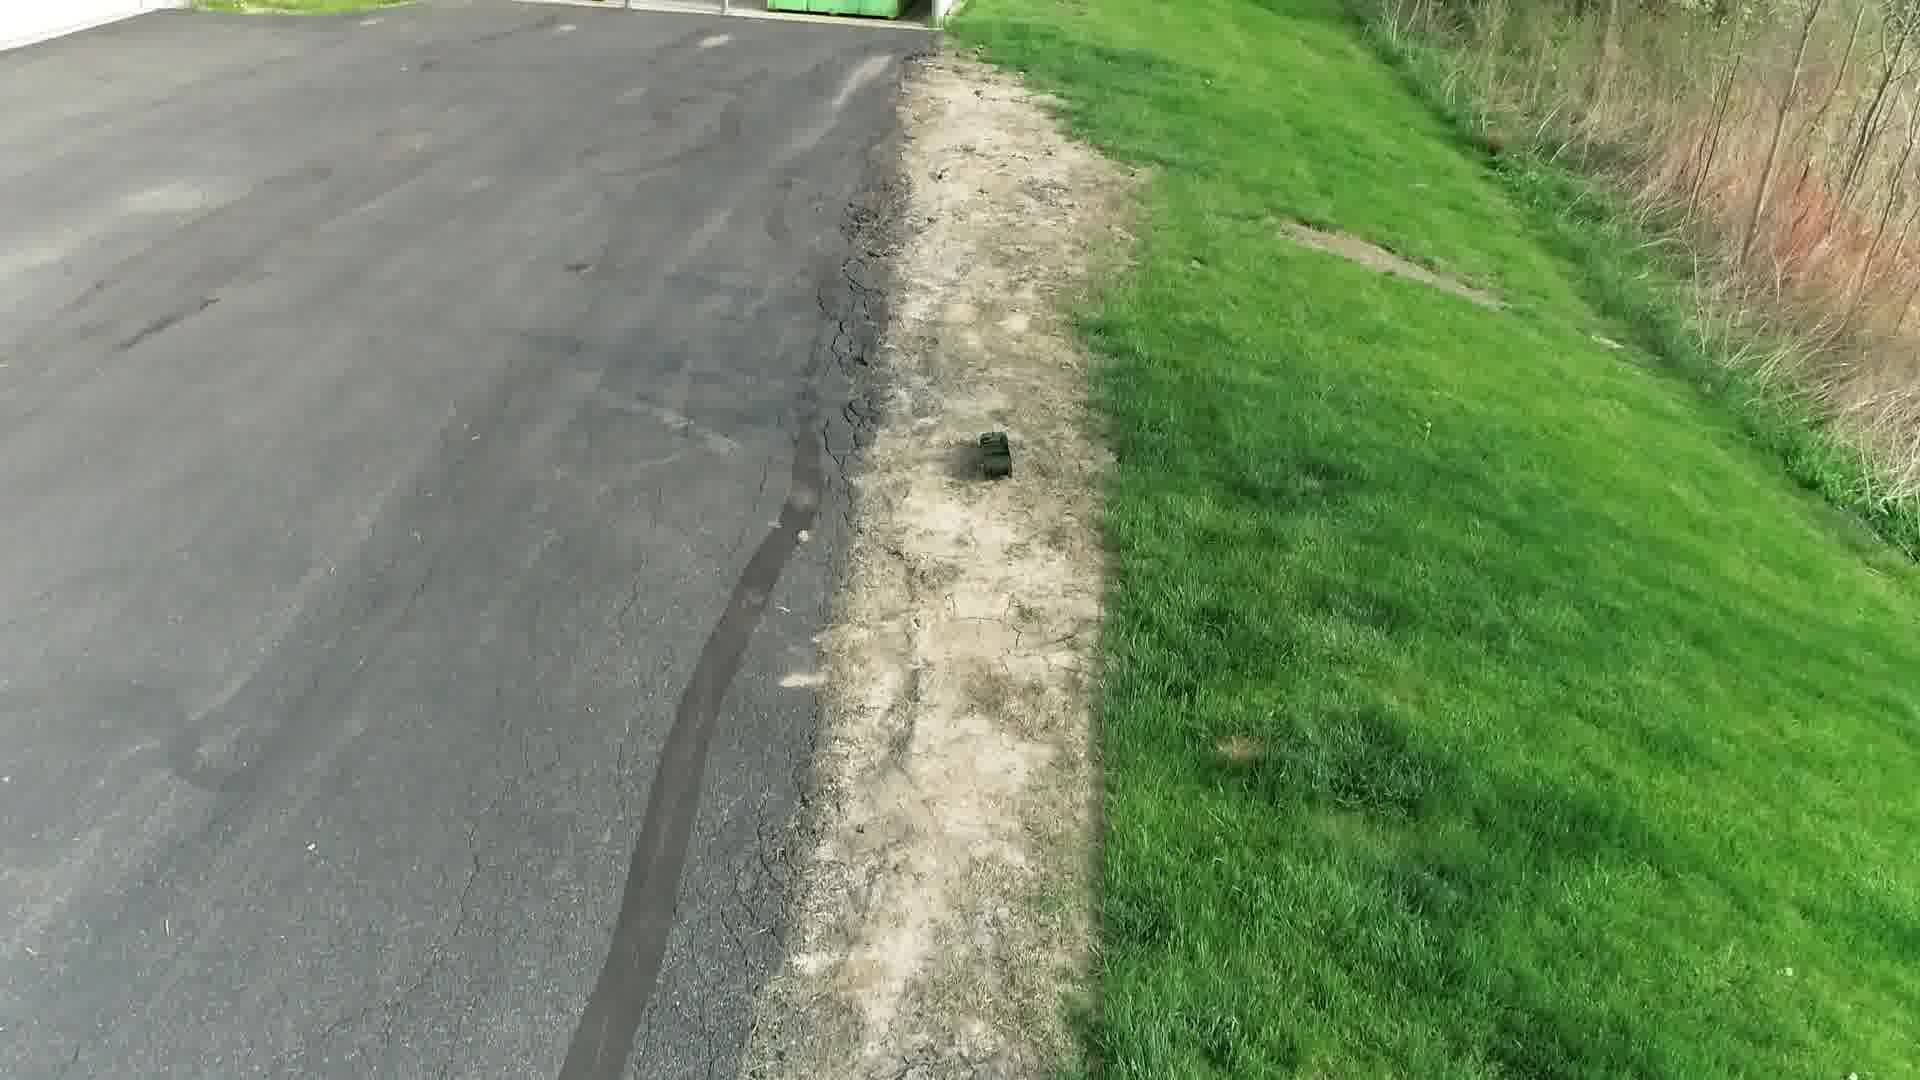transporter9: (976, 429, 1015, 483)
